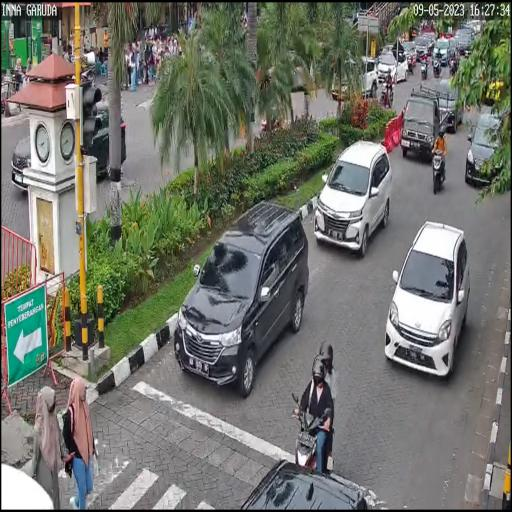mobil: (172, 197, 309, 396), (384, 221, 470, 382), (312, 137, 394, 253), (398, 84, 440, 171), (465, 110, 506, 192)
motor: (291, 378, 337, 481), (428, 143, 452, 203)
